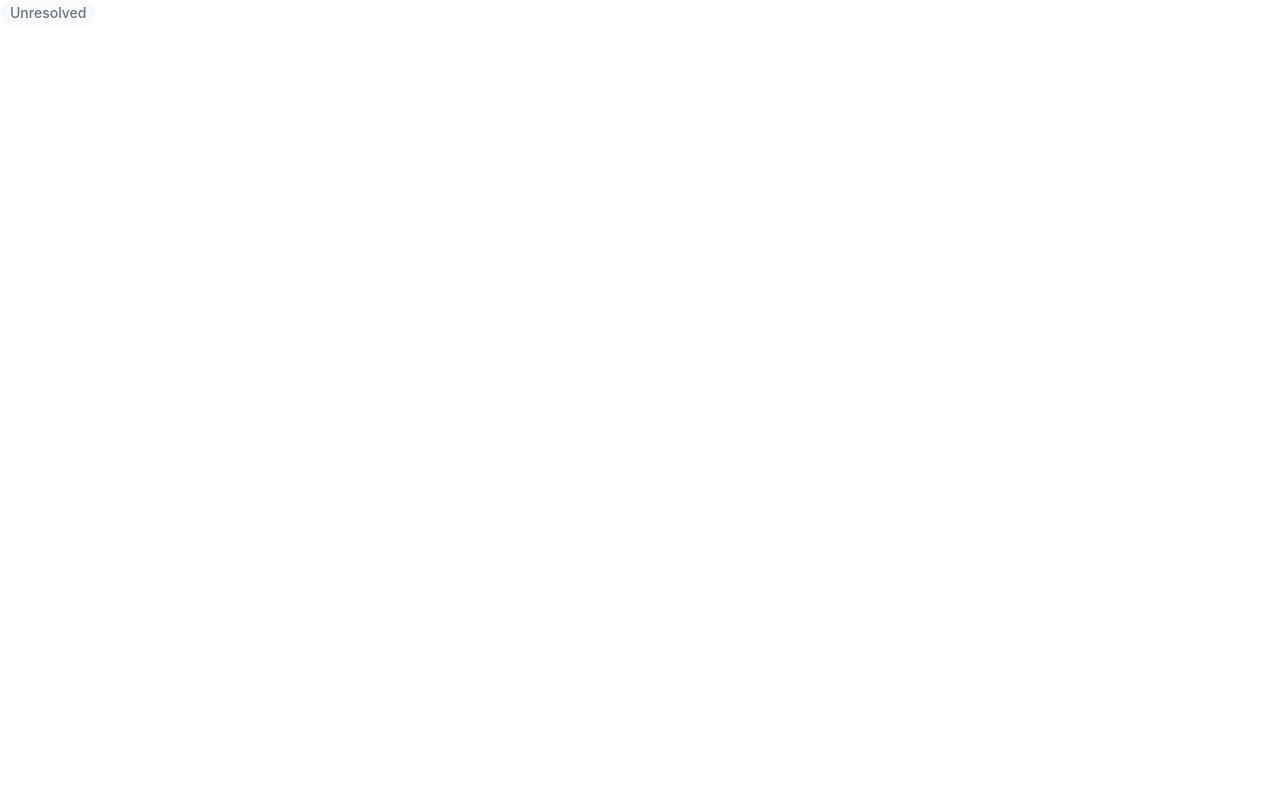
Test: RuleBadge › clicking unresolved opens the rules modal with every rule and the current one highlighted
This screenshot has width=1280, height=800.
Click the button with aria-label "Rule:" at [48, 13], box [0, 1, 96, 25]
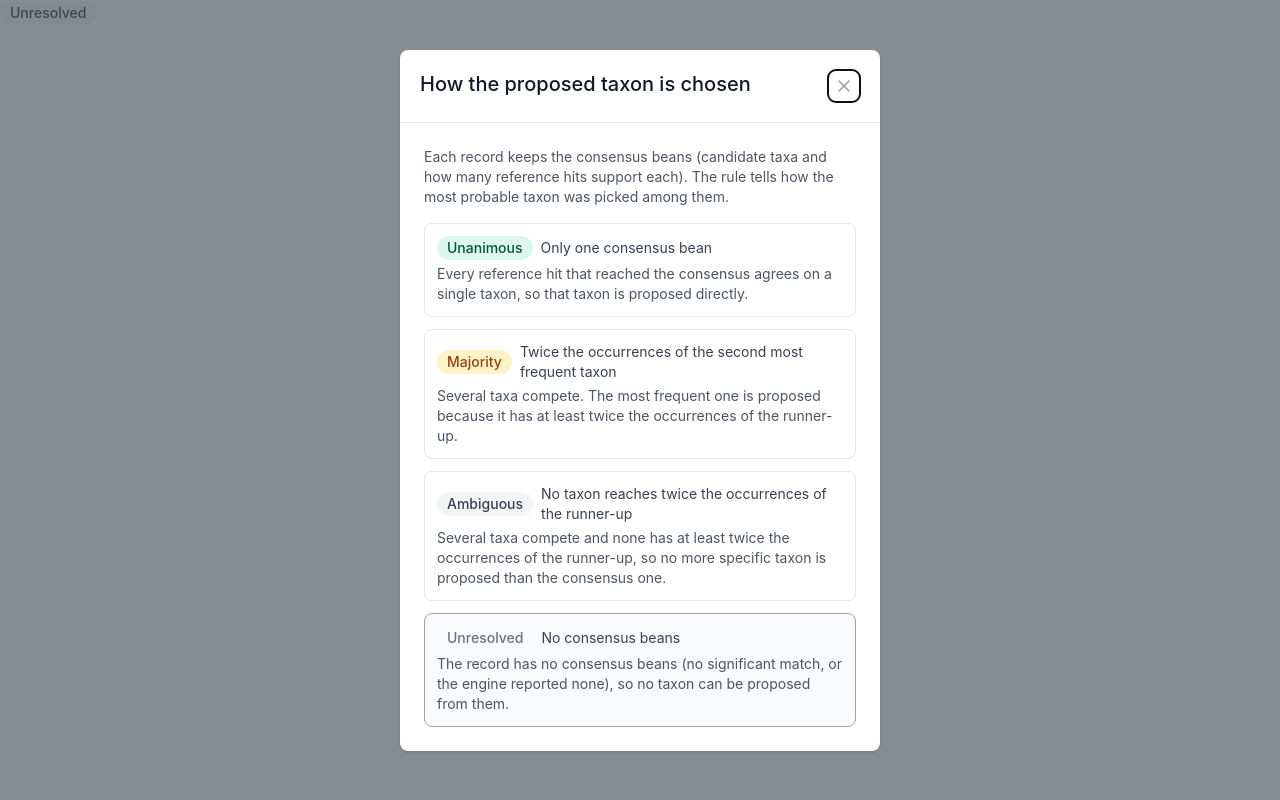
Expected: the dialog shows "How the proposed taxon is chosen", [420, 72, 751, 96]
Expected: the list item that starts with "Unresolved" is shown, [447, 628, 523, 646]
Expected: the list item that starts with "Unresolved" shows "The record has no consensus beans (no significant match, or the engine reported none), so no taxon can be proposed from them.", [437, 654, 842, 712]
